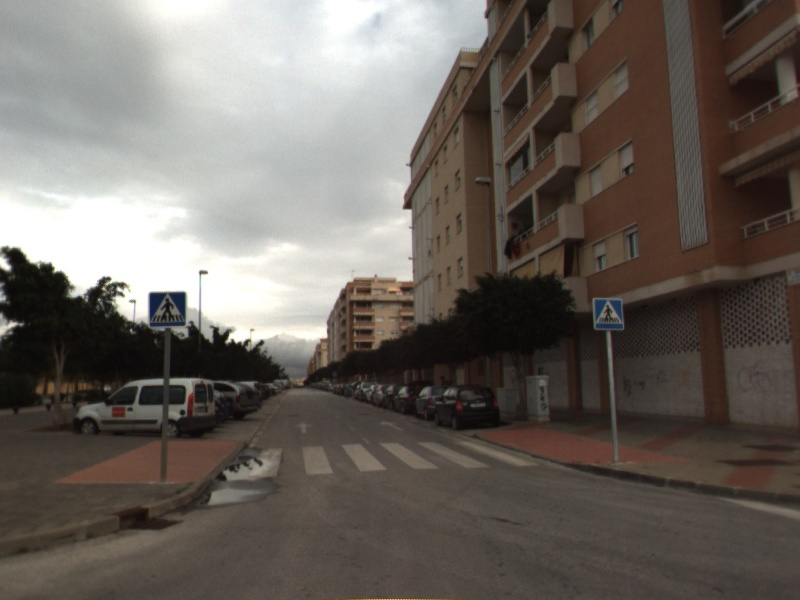STRAIGHT: (378, 419, 406, 433), (292, 420, 315, 435)
